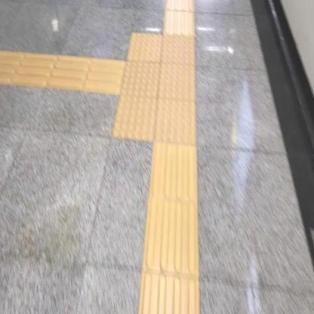Podoctatil: (99, 8, 213, 171), (137, 149, 198, 313), (0, 46, 119, 96), (164, 0, 195, 34)
